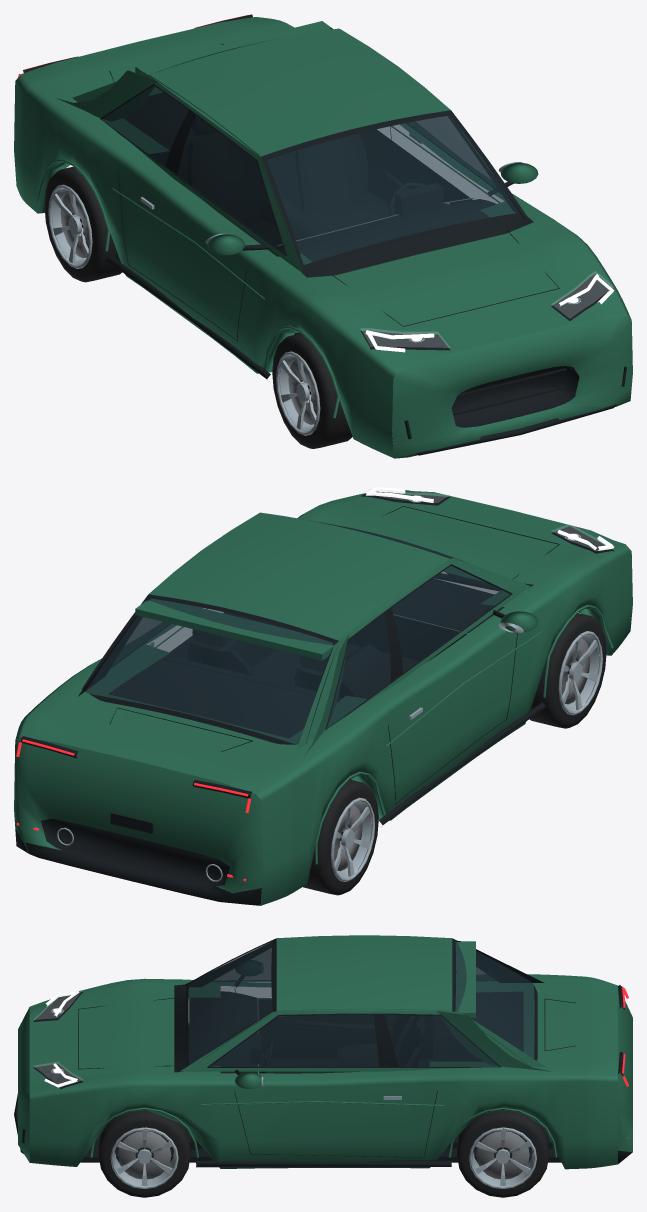
Rendered from crest-lod1.glb.
3 views of the same model, one above another, from view 1: azimuth 30°, elevation 25°; view 2: azimuth 150°, elevation 25°; view 3: azimuth 270°, elevation 25° (orthographic). The views are drawn at different scales.
Parts seen in each view (by area): view 1: sculpted-coachwork_merged, carbon-rear-valance_merged, panoramic-windscreen_merged, profiled-tire (×2), rim-barrel_merged (×2), headlamp-clear-lens_merged, ventilated-brake-rotor (×2), headlamp-projector-optic_merged; view 2: sculpted-coachwork_merged, carbon-rear-valance_merged, panoramic-windscreen_merged, profiled-tire (×2), rim-barrel_merged (×2), ventilated-brake-rotor (×2), headlamp-clear-lens_merged, headlamp-projector-optic_merged, door-release_merged; view 3: sculpted-coachwork_merged, carbon-rear-valance_merged, panoramic-windscreen_merged, profiled-tire (×2), rim-barrel_merged (×2), ventilated-brake-rotor (×2), headlamp-clear-lens_merged, headlamp-projector-optic_merged.
Boxes of the visible parts, <box> form: sculpted-coachwork_merged: <box>14,17,632,458</box>; carbon-rear-valance_merged: <box>23,14,626,455</box>; panoramic-windscreen_merged: <box>102,42,518,264</box>; profiled-tire (×2): <box>44,166,352,448</box>; rim-barrel_merged (×2): <box>48,184,320,435</box>; headlamp-clear-lens_merged: <box>361,271,613,347</box>; ventilated-brake-rotor (×2): <box>60,192,317,424</box>; headlamp-projector-optic_merged: <box>365,274,614,352</box>; sculpted-coachwork_merged: <box>14,490,632,905</box>; carbon-rear-valance_merged: <box>15,491,614,905</box>; panoramic-windscreen_merged: <box>86,521,510,744</box>; profiled-tire (×2): <box>303,613,606,895</box>; rim-barrel_merged (×2): <box>330,631,602,881</box>; ventilated-brake-rotor (×2): <box>334,639,590,871</box>; headlamp-clear-lens_merged: <box>362,489,613,550</box>; headlamp-projector-optic_merged: <box>366,487,614,550</box>; door-release_merged: <box>57,495,580,881</box>; sculpted-coachwork_merged: <box>18,935,632,1169</box>; carbon-rear-valance_merged: <box>14,938,632,1167</box>; panoramic-windscreen_merged: <box>188,941,534,1066</box>; profiled-tire (×2): <box>98,1110,548,1197</box>; rim-barrel_merged (×2): <box>110,1127,536,1188</box>; ventilated-brake-rotor (×2): <box>118,1131,529,1179</box>; headlamp-clear-lens_merged: <box>34,990,82,1086</box>; headlamp-projector-optic_merged: <box>44,991,79,1087</box>.
Bounding box in the file's own units: 2.19 × 1.44 × 4.58.
